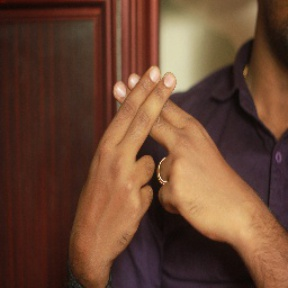F: (89, 59, 212, 187)
